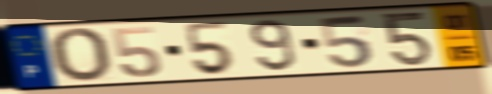5: (316, 13, 377, 70), (181, 19, 237, 78), (378, 11, 434, 68), (109, 24, 163, 80)
9: (248, 18, 298, 73)
O: (46, 26, 113, 84)
